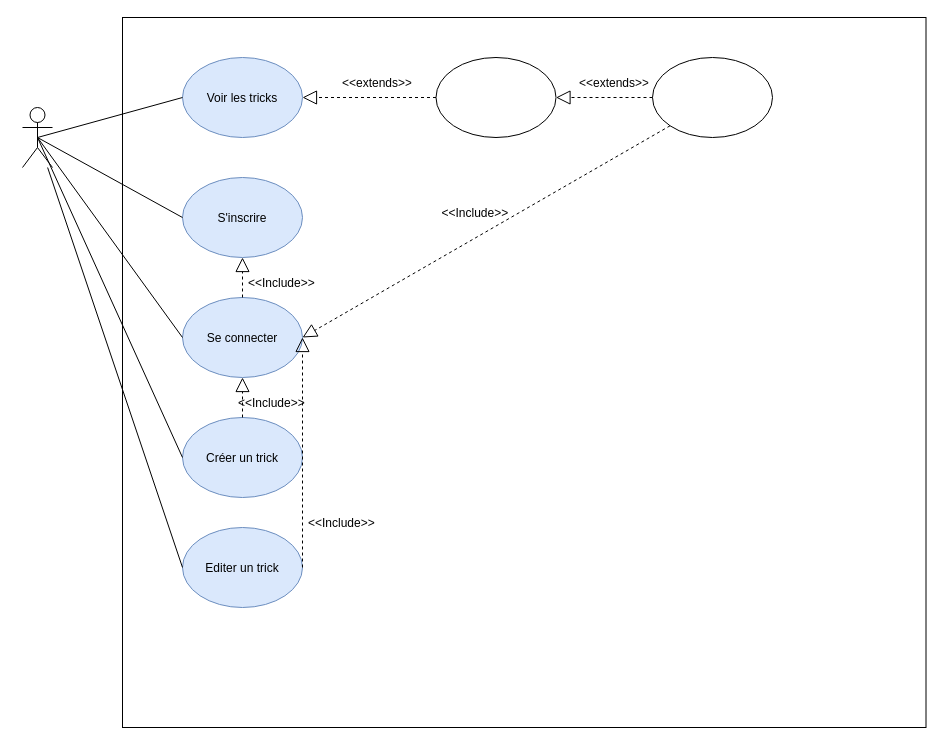
Some shapes in this 943 by 745 pixel diagram are drawn without their labels. The shapes that lost their labels are listed below. From the top down, each one's centre as x and y in pixels, then its label:
At point (495, 97): "Voir le détail d'un trick".
At point (712, 97): "Commenter".
At point (37, 137): "Visiteur".
